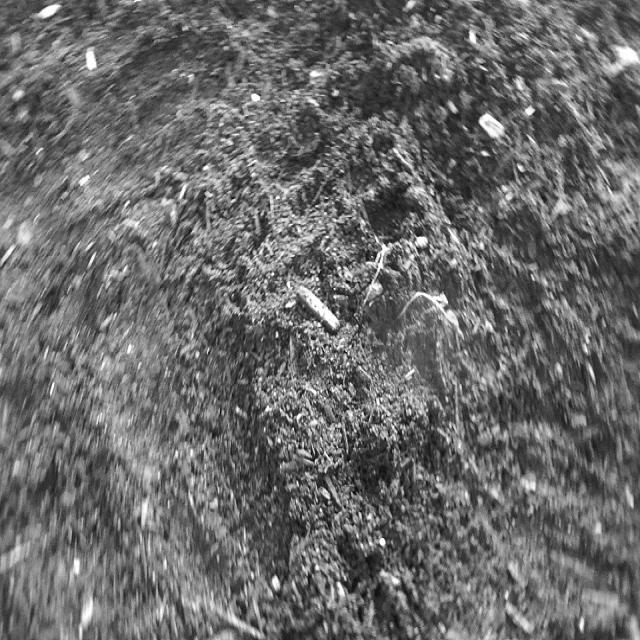Unhealthy: (356, 216, 472, 366)
